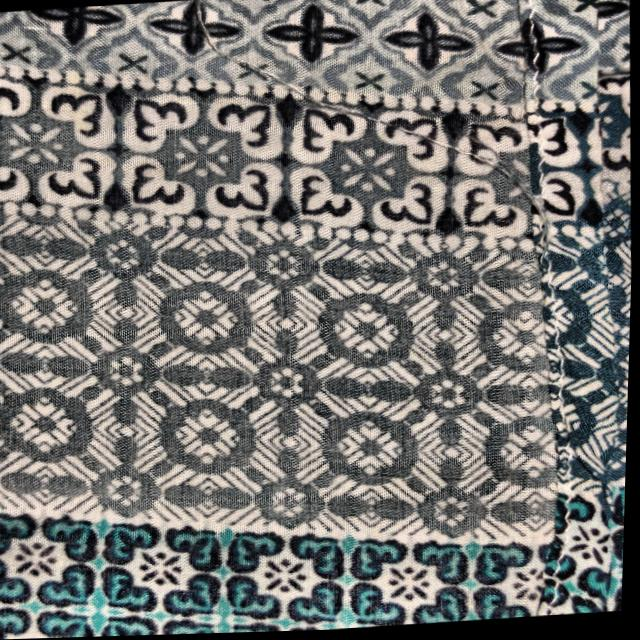Stitch: (165, 0, 527, 275)
